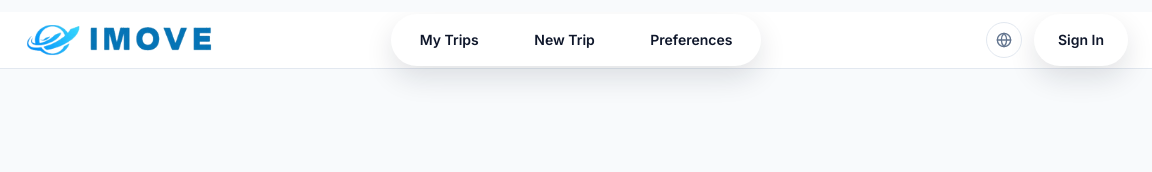
Test: Header › allows selecting Vietnamese from Language menu
Click the button named "language".
click(1004, 40)  # box [986,22,1022,58]
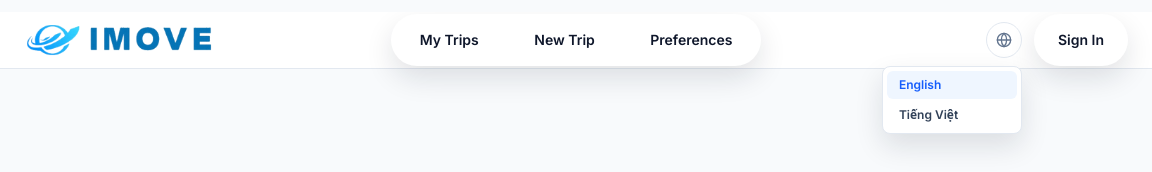
Click the menu item "Tiếng Việt".
click(952, 115)  # box [887,101,1017,129]
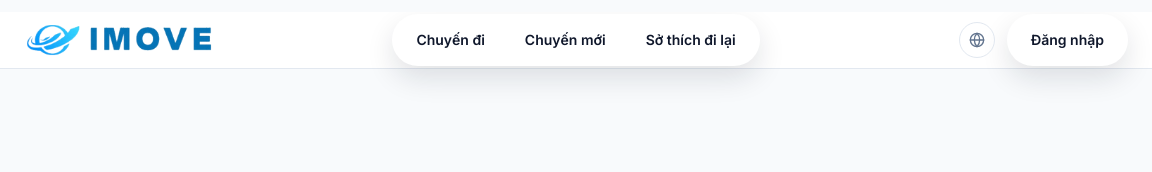
Check: the text "Chuyến đi" is shown, box [416,30,485,50]
Check: the text "Đăng nhập" is shown, box [1031,31,1104,48]
Check: the text "Chuyến mới" is shown, box [525,30,606,50]
